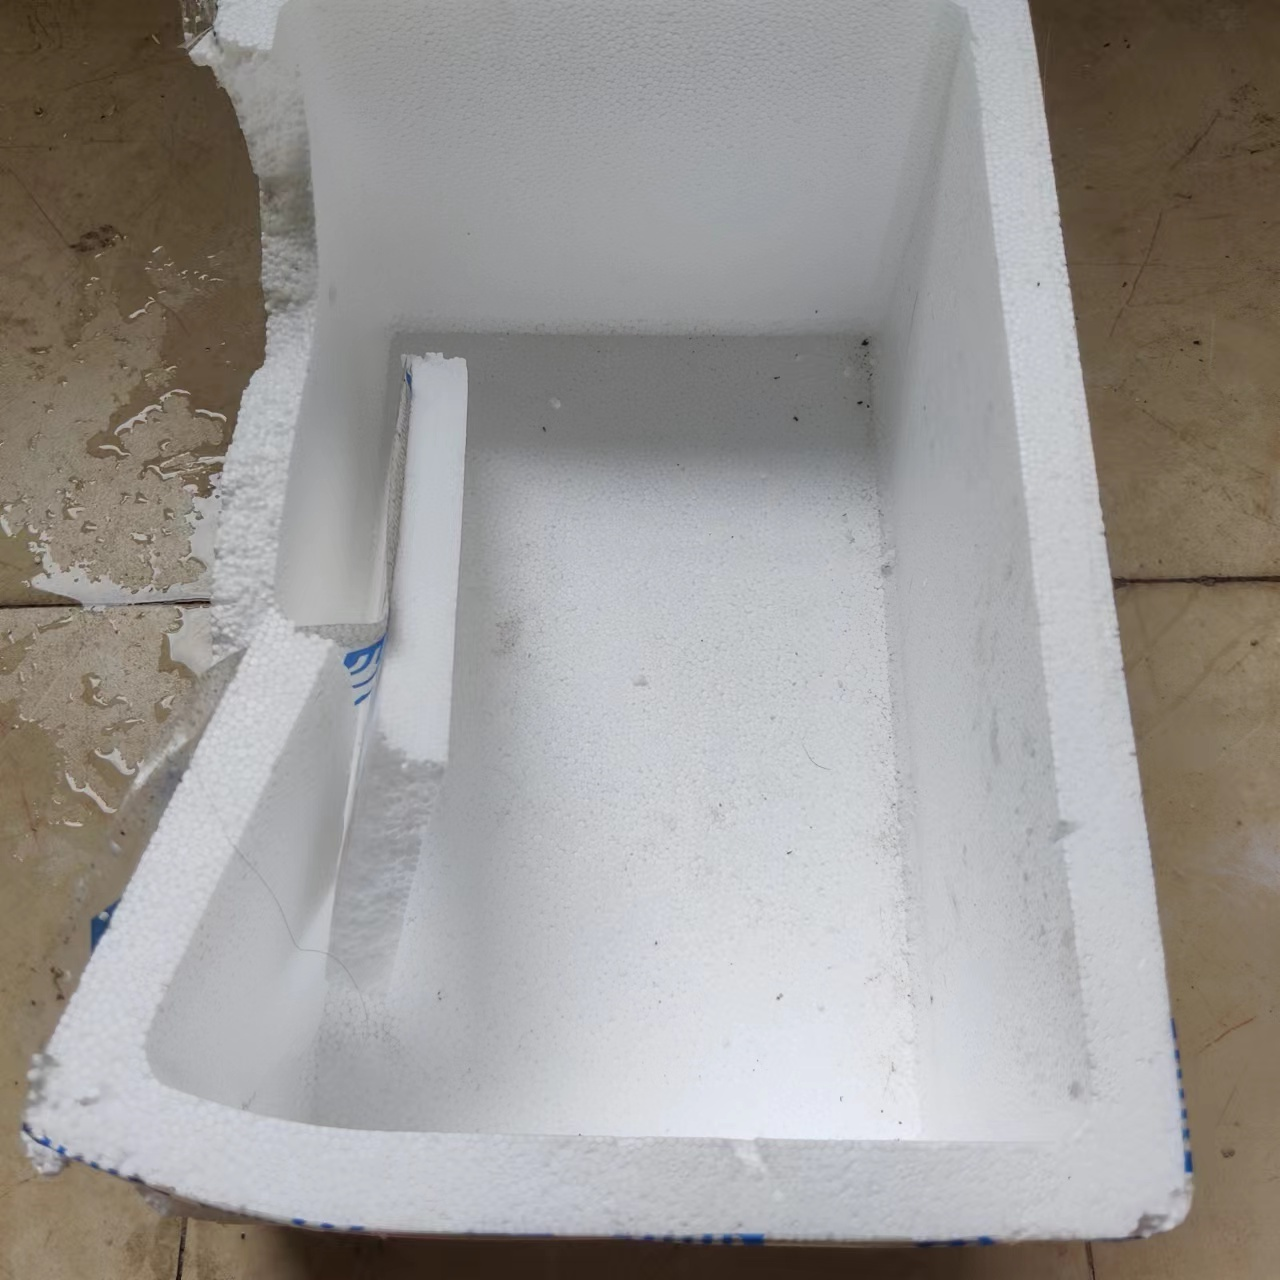5/可回收垃圾/泡沫: (21, 1, 1192, 1244), (324, 350, 476, 998)
